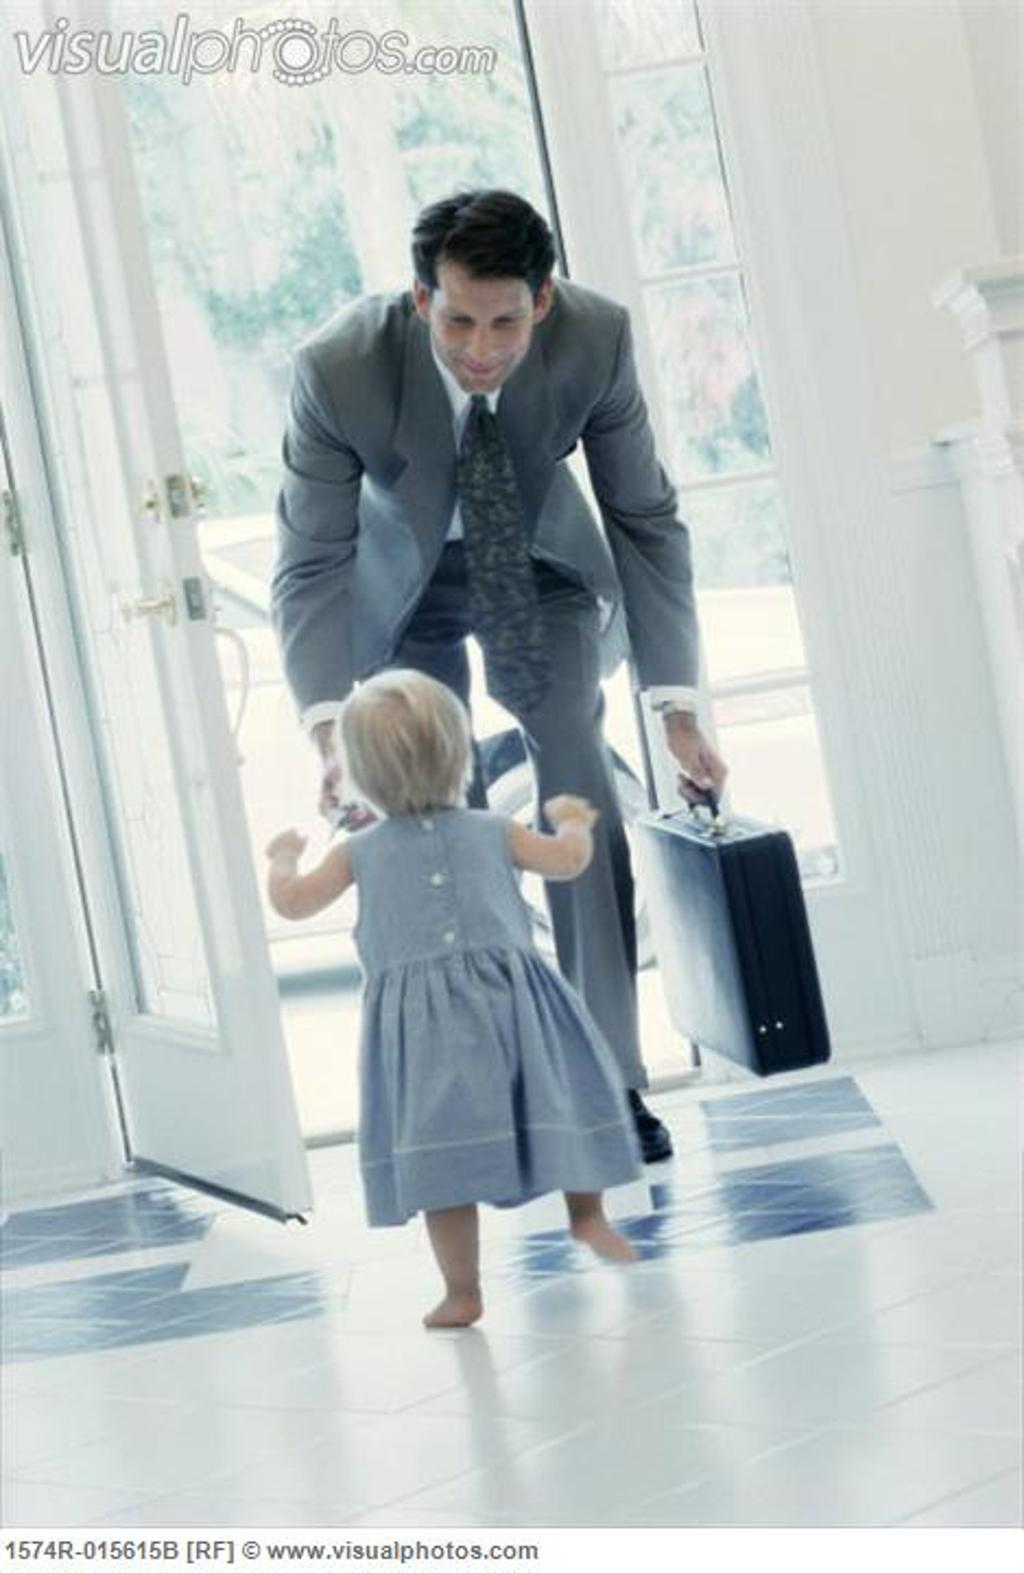face: (427, 252, 534, 390)
